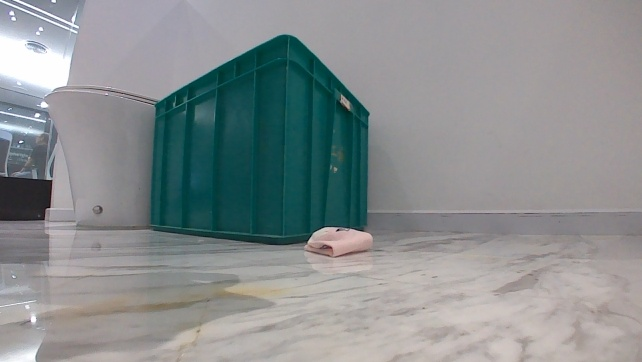socks: (302, 224, 373, 259)
toilet: (42, 82, 160, 232)
